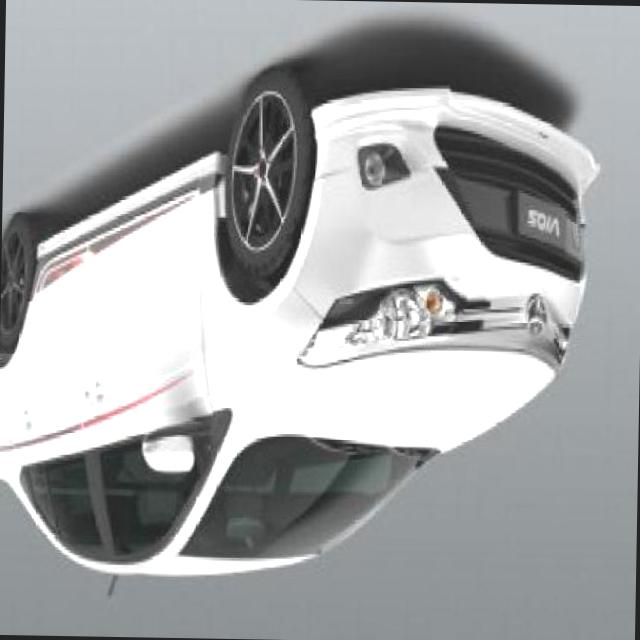ToyotaVios: (0, 59, 603, 606)
